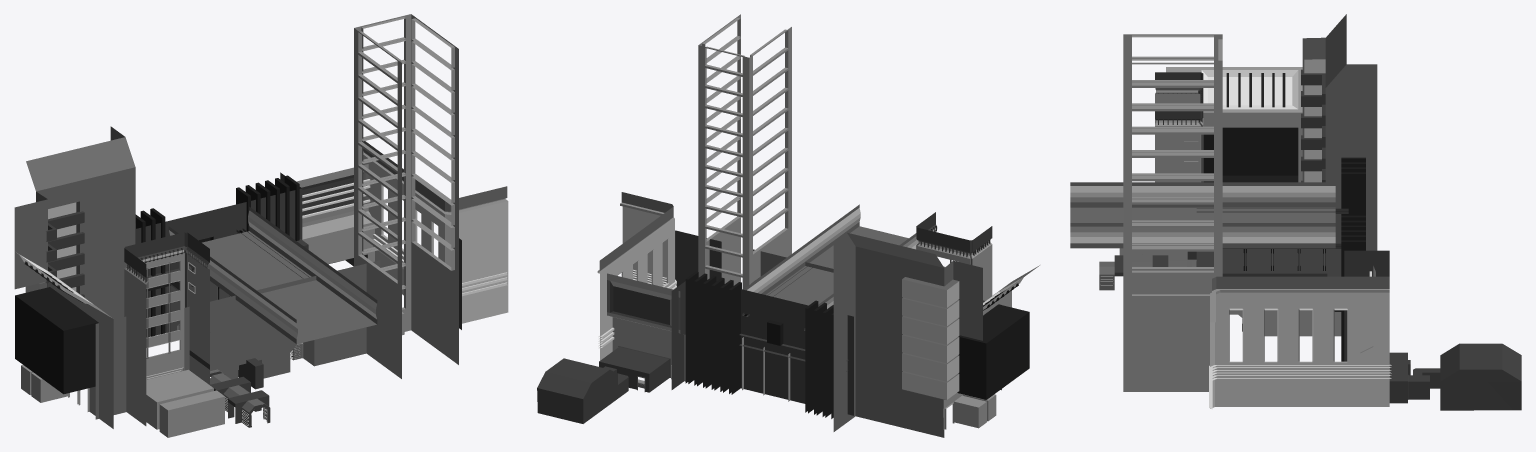
The model's file is market.FBX.
The picture shows the model from 3 angles, left to right: view 1: azimuth 30°, elevation 25°; view 2: azimuth 150°, elevation 25°; view 3: azimuth 270°, elevation 25°; orthographic projection. The views are drawn at different scales.
Visible parts, largest first — view 1: market_buildings, market_centerSplit, building_whale; view 2: market_buildings, building_whale, market_centerSplit; view 3: market_buildings, market_centerSplit, building_whale.
Boxes of the visible parts, x1=… form: market_buildings: x1=14, y1=14, x2=508, y2=437; market_centerSplit: x1=146, y1=207, x2=377, y2=389; building_whale: x1=296, y1=164, x2=374, y2=266; market_buildings: x1=597, y1=14, x2=1039, y2=437; building_whale: x1=537, y1=273, x2=685, y2=423; market_centerSplit: x1=739, y1=204, x2=918, y2=401; market_buildings: x1=1099, y1=14, x2=1391, y2=409; market_centerSplit: x1=1070, y1=182, x2=1348, y2=336; building_whale: x1=1360, y1=266, x2=1521, y2=410.
Size of the model in its own units: 3560 by 2445 by 2965.
